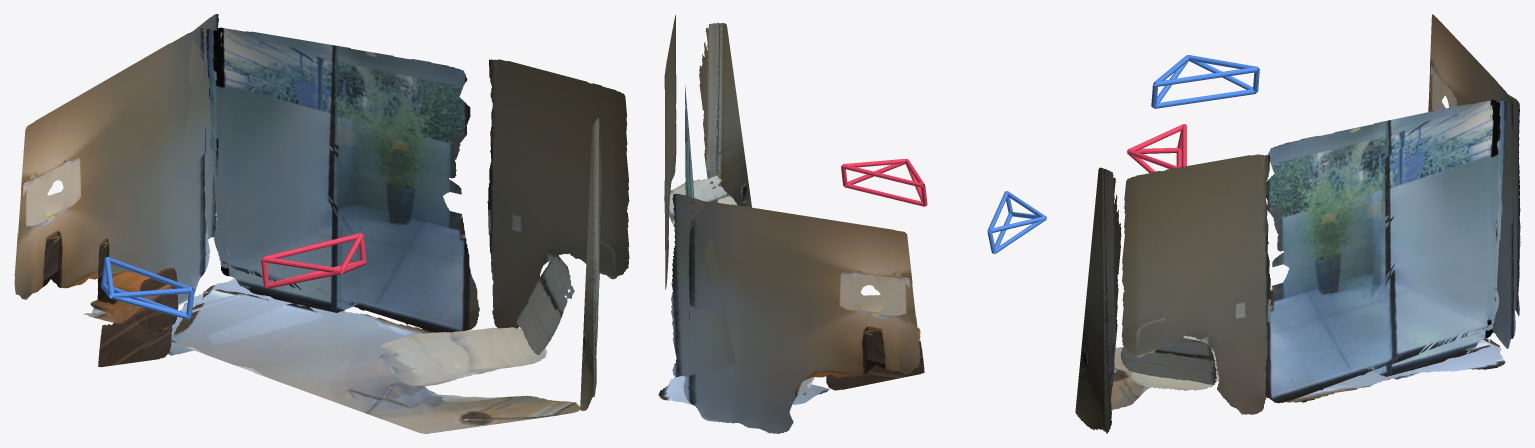
The model's file is pred.glb.
The picture shows the model from 3 angles, left to right: view 1: azimuth 30°, elevation 25°; view 2: azimuth 150°, elevation 25°; view 3: azimuth 270°, elevation 25°; orthographic projection. The views are drawn at different scales.
Visible parts, largest first — view 1: Node; view 2: Node; view 3: Node.
Part boxes in pixels (left/top/right/bottom): Node: left=14, top=14, right=629, bottom=433; Node: left=658, top=15, right=1046, bottom=433; Node: left=1075, top=14, right=1520, bottom=433.
Bounding box in the file's own units: 4 × 2.39 × 3.31.
17 materials, 15 textured.
